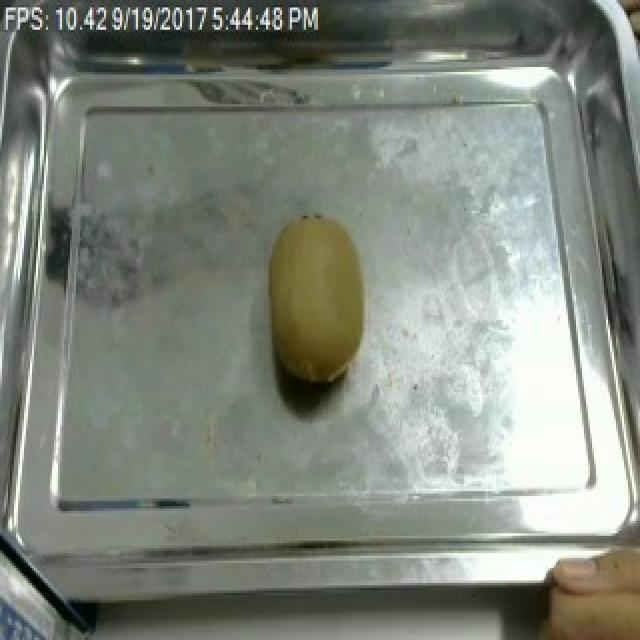Fruit: (256, 206, 378, 394), (516, 533, 640, 640)
